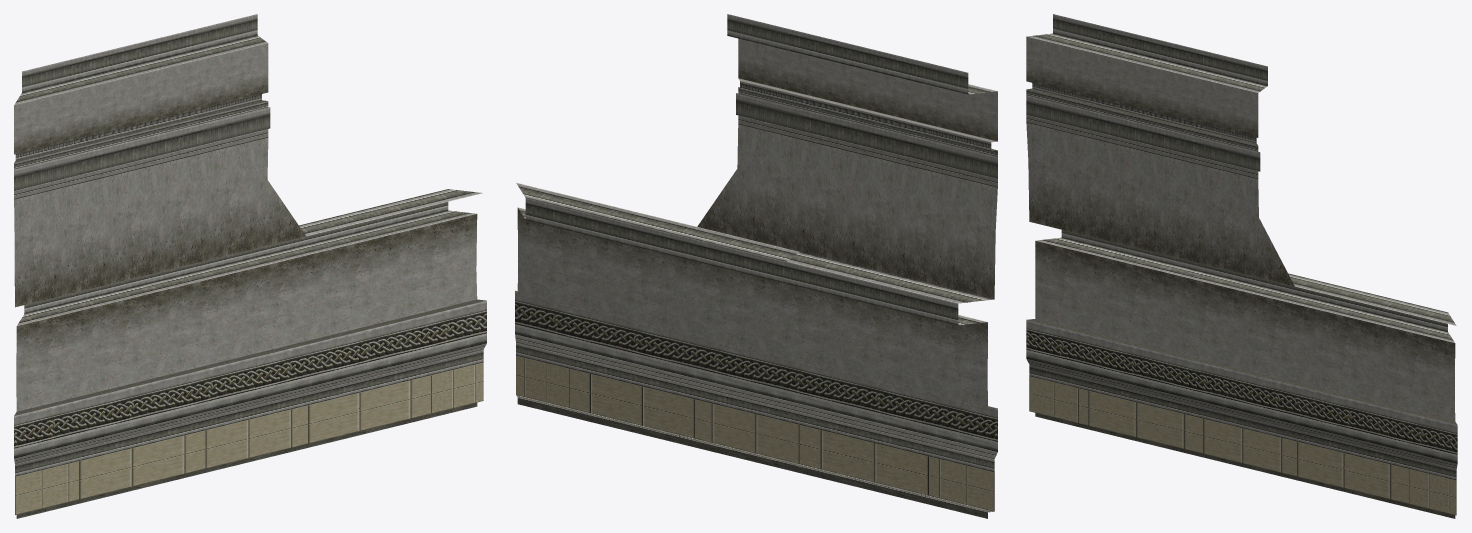
File: DWARF_PALACE_ARKENSTONE_ROOM_WALL02.fbx
The picture shows the model from 3 angles, left to right: view 1: azimuth 30°, elevation 25°; view 2: azimuth 150°, elevation 25°; view 3: azimuth 330°, elevation 25°; orthographic projection. The views are drawn at different scales.
Parts seen in each view (by area): view 1: DWARF_PALACE_ARKENSTONE_ROOM_WALL02; view 2: DWARF_PALACE_ARKENSTONE_ROOM_WALL02; view 3: DWARF_PALACE_ARKENSTONE_ROOM_WALL02.
Boxes of the visible parts, <box> form: DWARF_PALACE_ARKENSTONE_ROOM_WALL02: <box>14,14,486,518</box>; DWARF_PALACE_ARKENSTONE_ROOM_WALL02: <box>515,14,997,518</box>; DWARF_PALACE_ARKENSTONE_ROOM_WALL02: <box>1026,14,1457,518</box>.
Size of the model in its own units: 230960 by 205000 by 12001.
Materials: 8 (8 with a texture image).
